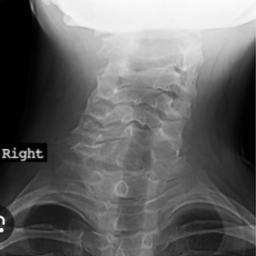cancer: (70, 138, 154, 174)
